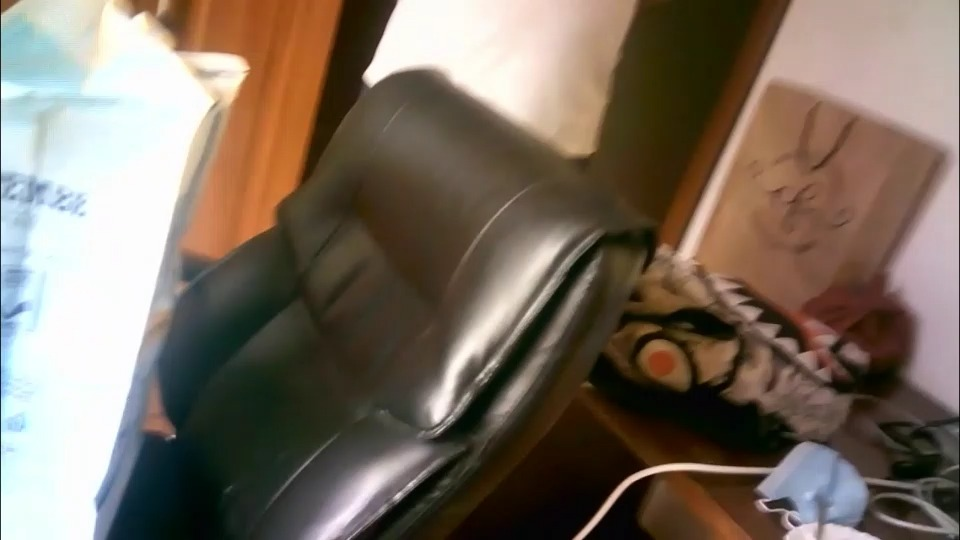wheat_flour_blue_label: (0, 5, 239, 539)
